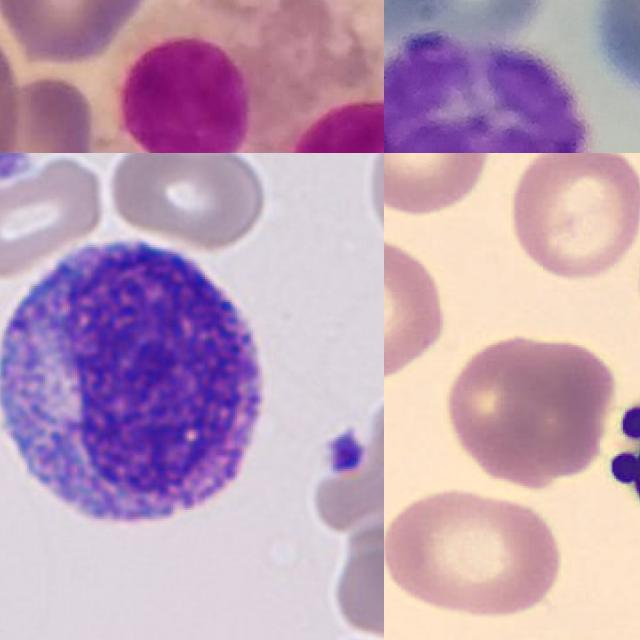Basophil: (384, 34, 595, 153)
Eosinophil: (114, 0, 384, 153)
Lymphocyte: (0, 223, 283, 545), (587, 343, 640, 540)
Platelets: (321, 426, 369, 478), (0, 153, 38, 186)
RBC: (438, 329, 618, 483), (384, 484, 566, 621), (504, 153, 640, 283), (103, 153, 270, 250), (0, 153, 109, 278), (313, 384, 384, 535), (384, 232, 450, 390), (384, 153, 498, 220), (327, 543, 384, 640)
